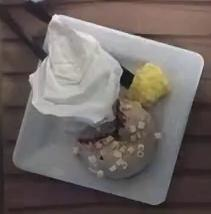donut: (77, 99, 162, 179)
